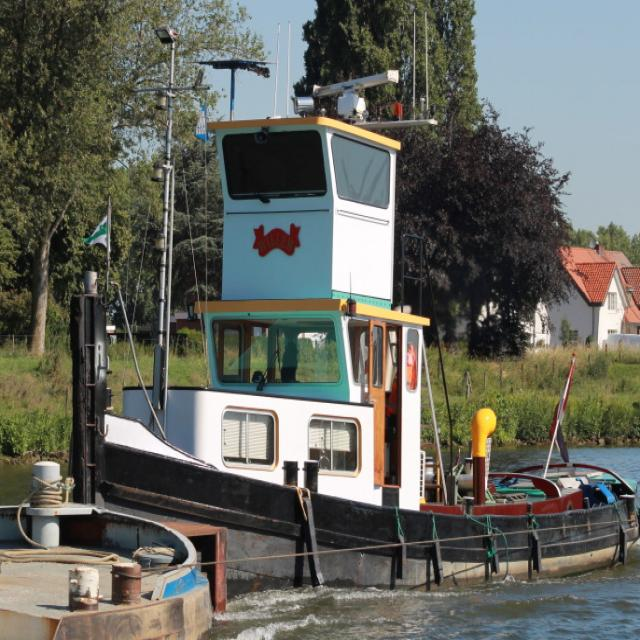tugboat: (41, 7, 640, 601)
